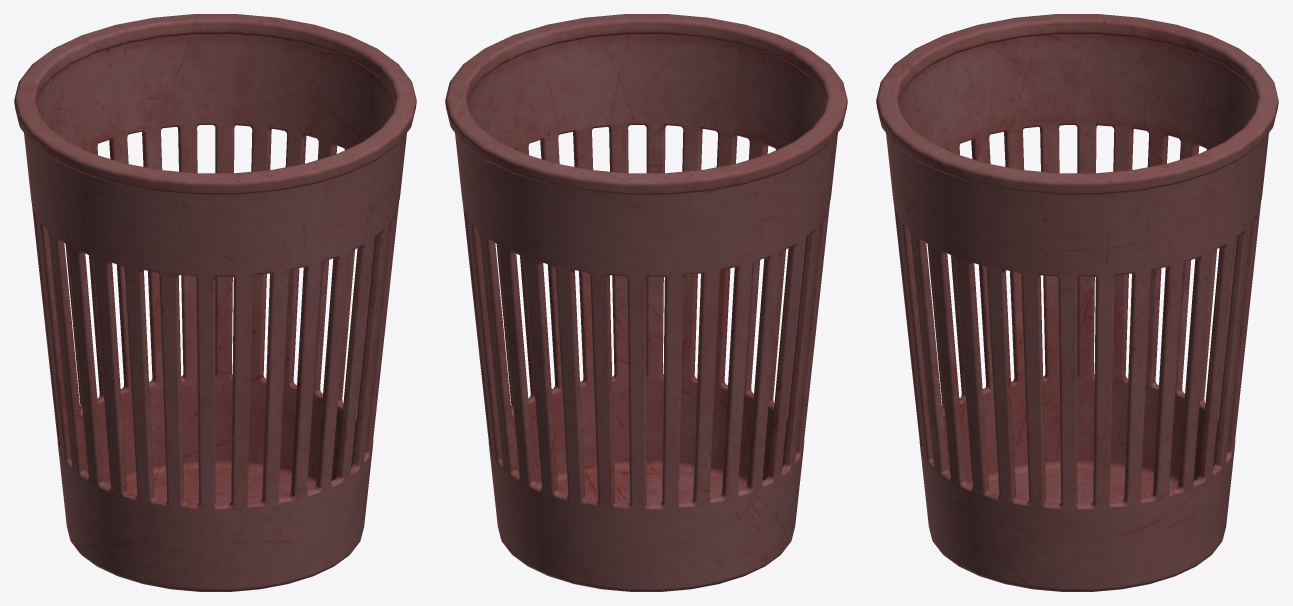
Rendered from lixeira.fbx.
3 views of the same model, side by side, from view 1: azimuth 30°, elevation 25°; view 2: azimuth 150°, elevation 25°; view 3: azimuth 270°, elevation 25° (orthographic).
Parts seen in each view (by area): view 1: FG Trash Bin.Shape; view 2: FG Trash Bin.Shape; view 3: FG Trash Bin.Shape.
Boxes of the visible parts, box(x1,y1,x2,y2) form: FG Trash Bin.Shape: box(14, 14, 416, 591); FG Trash Bin.Shape: box(445, 14, 847, 591); FG Trash Bin.Shape: box(876, 14, 1278, 591).
Size of the model in its own units: 33.79 by 40.55 by 33.98.
1 material, 1 textured.
